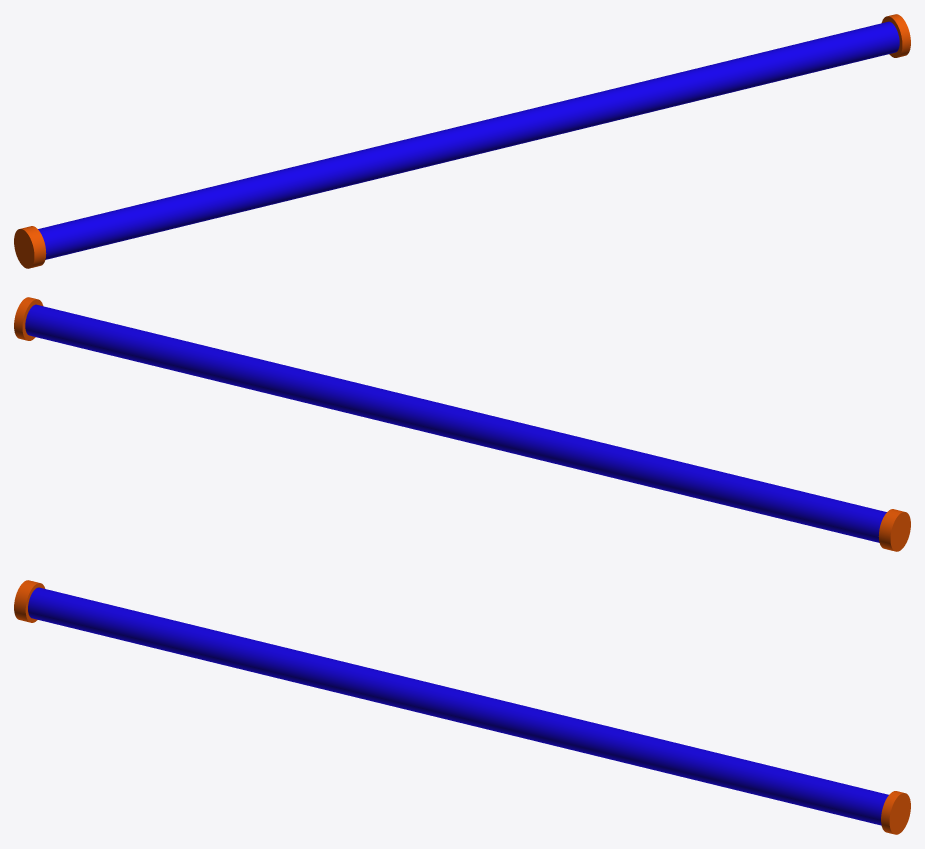
File: Neon_Tube.fbx
3 renders of one model, top to bottom at view 1: azimuth 30°, elevation 25°; view 2: azimuth 150°, elevation 25°; view 3: azimuth 330°, elevation 25°, orthographic.
Visible parts, largest first — view 1: Cylinder.001; view 2: Cylinder.001; view 3: Cylinder.001.
Part boxes in pixels (x1,y1,x2,y2): Cylinder.001: (14, 14, 910, 268); Cylinder.001: (14, 297, 910, 551); Cylinder.001: (14, 580, 910, 834).
Size of the model in its own units: 563 by 23.89 by 23.89.
